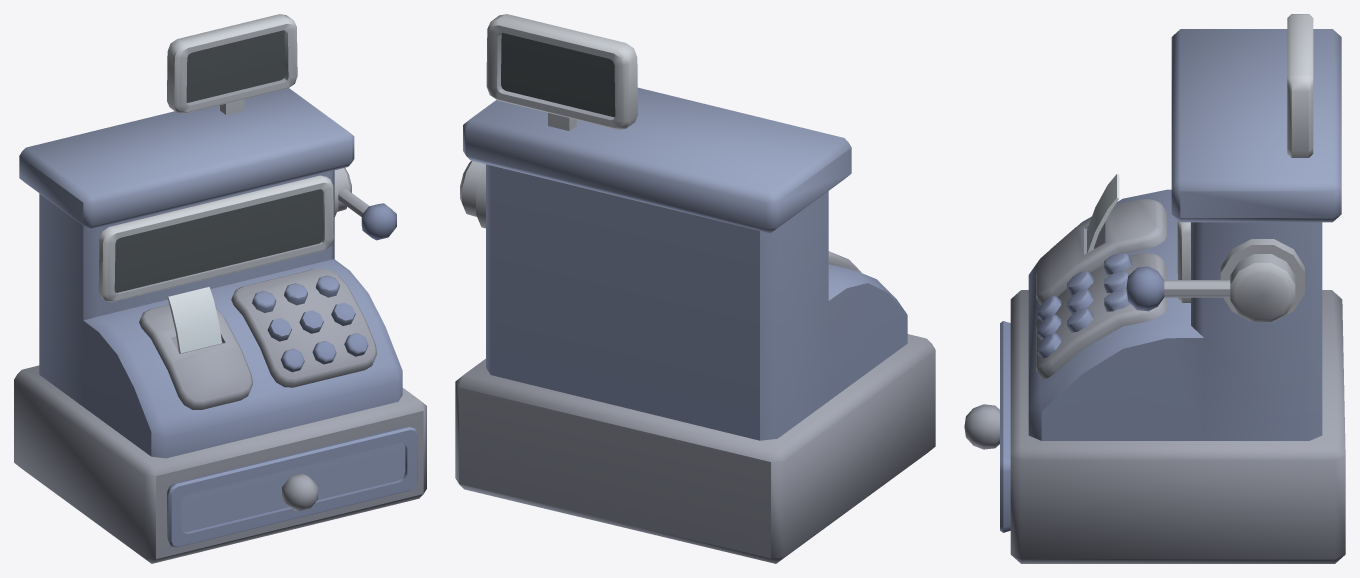
The model's file is cash-register.glb.
3 views of the same model, side by side, from view 1: azimuth 30°, elevation 25°; view 2: azimuth 150°, elevation 25°; view 3: azimuth 270°, elevation 25° (orthographic). The views are drawn at different scales.
Visible parts, largest first — view 1: cash_register, cash_register_handle.001; view 2: cash_register; view 3: cash_register, cash_register_handle.001.
Boxes of the visible parts, left/top/right/bottom form: cash_register: left=14, top=14, right=426, bottom=563; cash_register_handle.001: left=338, top=189, right=396, bottom=240; cash_register: left=455, top=14, right=935, bottom=563; cash_register: left=964, top=14, right=1345, bottom=563; cash_register_handle.001: left=1126, top=266, right=1230, bottom=311.
Bounding box in the file's own units: 0.9498 × 1.2 × 0.8694.
Materials: 1 (1 with a texture image).
